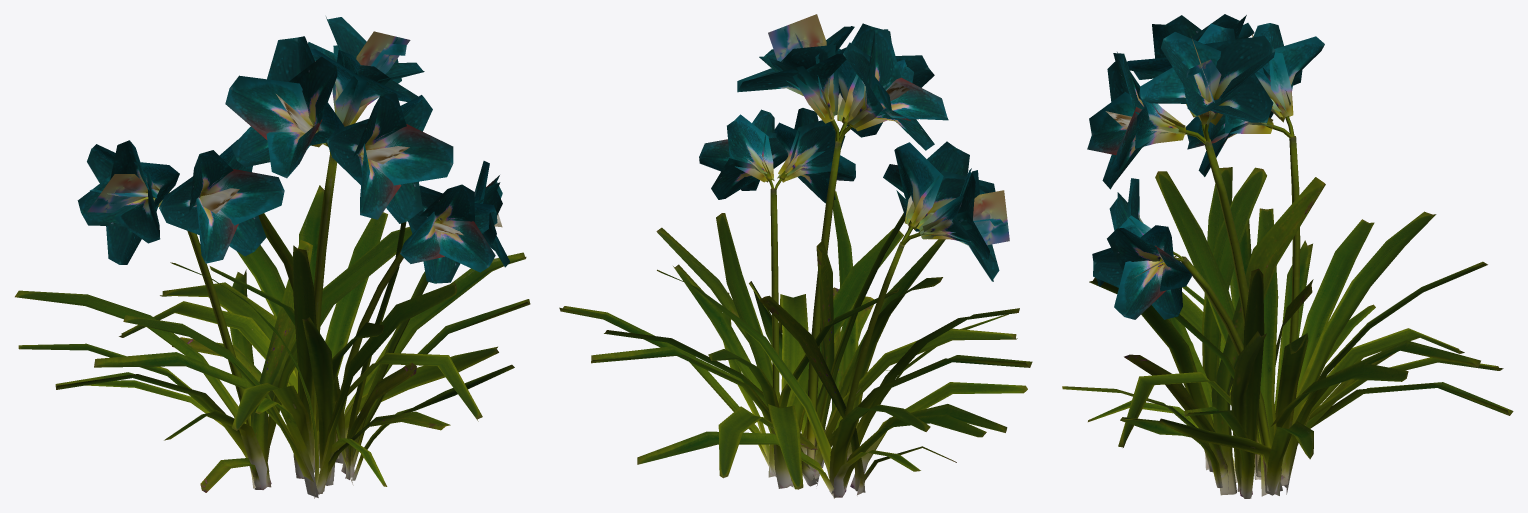
File: Amaryllis_bush_normal_cyan.glb
The picture shows the model from 3 angles, left to right: view 1: azimuth 30°, elevation 25°; view 2: azimuth 150°, elevation 25°; view 3: azimuth 270°, elevation 25°; orthographic projection. The views are drawn at different scales.
Visible parts, largest first — view 1: bush; view 2: bush; view 3: bush.
Boxes of the visible parts, x1,y1,x2,y2 form: bush: [15, 17, 530, 498]; bush: [559, 14, 1032, 498]; bush: [1062, 14, 1513, 498].
Size of the model in its own units: 2.94 by 2.74 by 2.41.
1 material, 1 textured.
